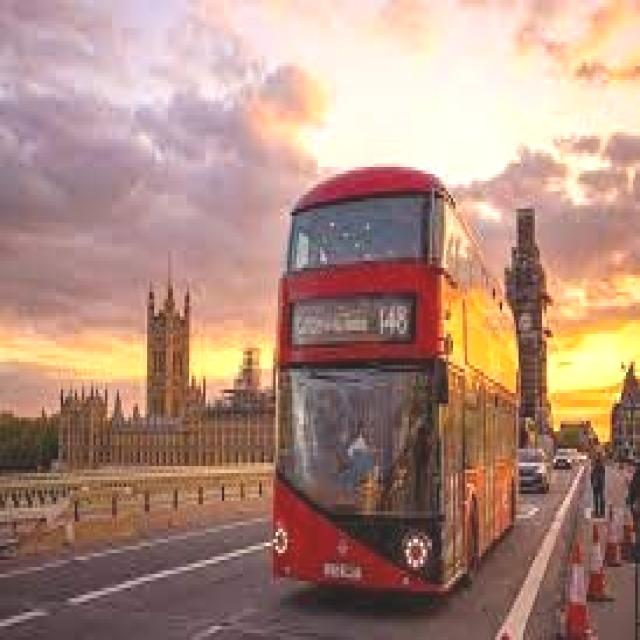bus: (261, 149, 534, 617)
